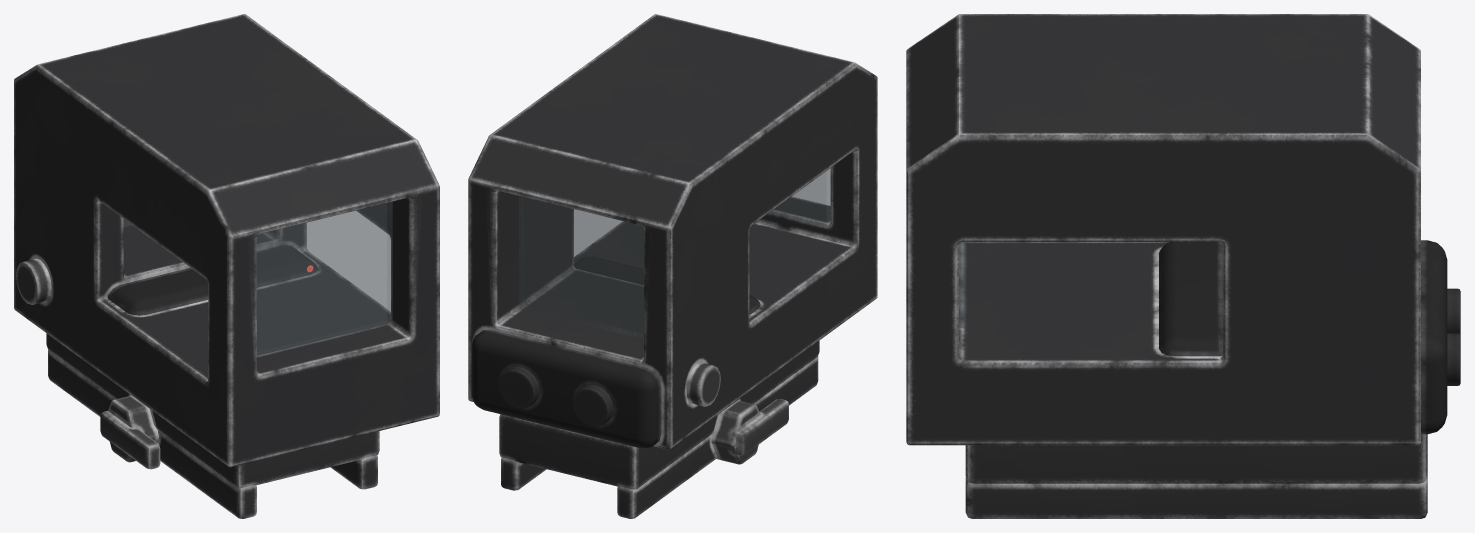
The model's file is holo.glb.
3 renders of one model, left to right at view 1: azimuth 30°, elevation 25°; view 2: azimuth 150°, elevation 25°; view 3: azimuth 270°, elevation 25°, orthographic. The views are drawn at different scales.
Visible parts, largest first — view 1: body, lens_front; view 2: body, lens_rear, lens_front; view 3: body.
Part boxes in pixels (<box>): body: <box>14,14,439,518</box>; lens_front: <box>256,202,392,357</box>; body: <box>468,14,877,518</box>; lens_rear: <box>519,196,643,338</box>; lens_front: <box>769,168,830,227</box>; body: <box>906,14,1460,518</box>.
Size of the model in its own units: 0.047 by 0.0682 by 0.084.
4 materials, 1 textured.
